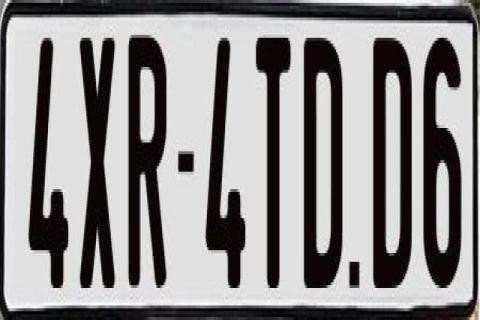0: (27, 29, 73, 288), (204, 38, 248, 300), (424, 32, 463, 300)
D: (374, 35, 414, 303), (303, 29, 344, 285)
R: (127, 26, 171, 288)
T: (254, 35, 292, 285)
X: (80, 32, 116, 285)
